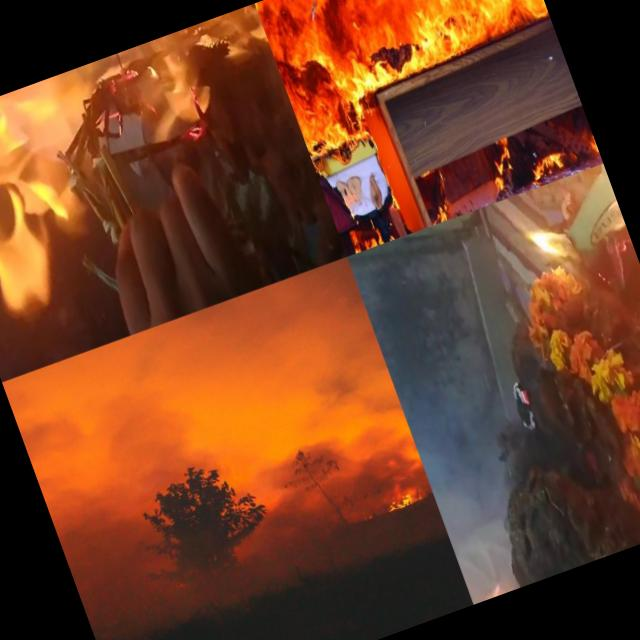fire: (254, 0, 603, 257), (0, 45, 229, 381), (536, 501, 594, 574), (382, 484, 428, 516)
smoke: (237, 352, 429, 535), (6, 364, 152, 579)
